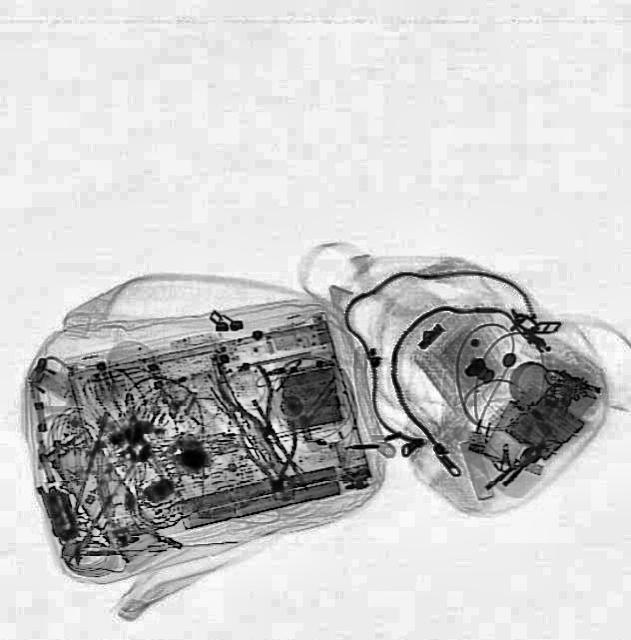Pliers: (209, 357, 295, 453), (236, 412, 308, 503)
